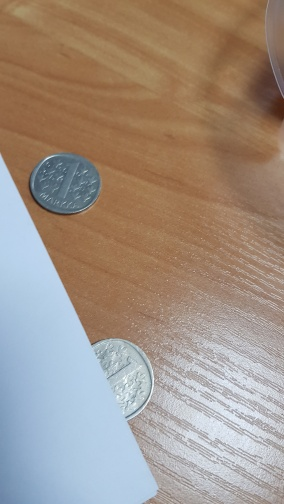coin: (90, 338, 155, 420), (27, 152, 102, 217)
